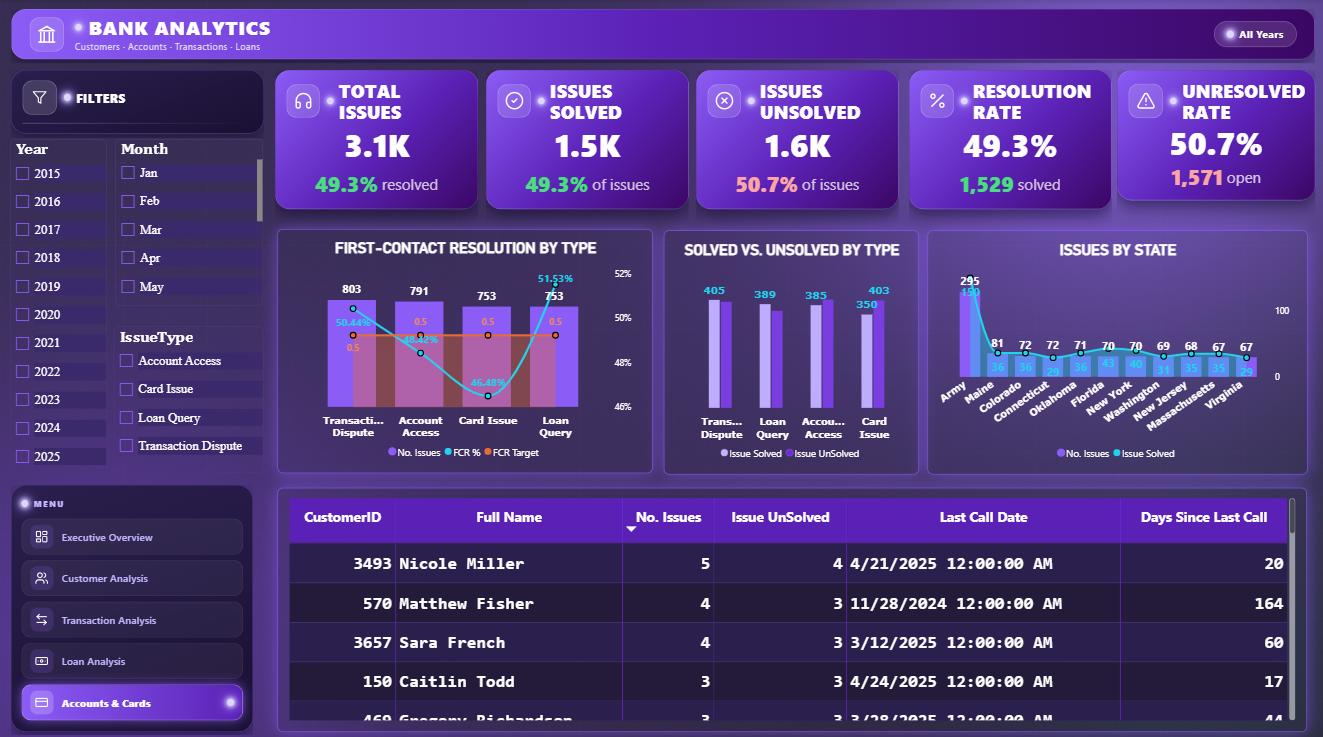

Layout of this report page (visuals, bound fields, positions):
{"tool":"powerbi","page":{"name":"Accounts & Cards","canvas":[1920,1080],"ordinal":5},"visuals":[{"type":"htmlContent443BE3AD55E043BF878BED274D3A6855","fields":{"content":["HTML.Header Bank Analytics"]},"box":[0,0,1920,108.2],"z":0},{"type":"htmlContent443BE3AD55E043BF878BED274D3A6855","fields":{"content":["HTML.Panel Filters"]},"box":[0,88.7,398.1,127.4],"z":1000},{"type":"htmlContent443BE3AD55E043BF878BED274D3A6855","fields":{"content":["HTML.Nav Menu 5"]},"box":[0,688.7,382.2,391.3],"z":2000},{"type":"slicer","fields":{"Values":["Calender.Year"]},"box":[15.2,202.8,140.3,485.1],"z":3000},{"type":"actionButton","box":[34.9,802.9,320,62.1],"z":4000},{"type":"actionButton","box":[34.9,754.4,320,48.5],"z":5000},{"type":"actionButton","box":[34.9,865,320,58.2],"z":6000},{"type":"actionButton","box":[31,923.2,323.9,62.1],"z":7000},{"type":"actionButton","box":[34.9,985.2,320,71.8],"z":8000},{"type":"slicer","fields":{"Values":["Calender.Month"]},"box":[166.7,203.2,214.6,242],"z":9000},{"type":"slicer","fields":{"Values":["SupportCalls.IssueType"]},"box":[164.4,474.9,216.9,212.3],"z":10000},{"type":"htmlContent443BE3AD55E043BF878BED274D3A6855","fields":{"content":["HTML 4.Card No Issues"]},"box":[382.2,88.7,325.3,259.3],"z":11000},{"type":"htmlContent443BE3AD55E043BF878BED274D3A6855","fields":{"content":["HTML 4.Card Issue Solved"]},"box":[687,88.7,325,259.3],"z":12000},{"type":"htmlContent443BE3AD55E043BF878BED274D3A6855","fields":{"content":["HTML 4.Card Issue UnSolved"]},"box":[991.8,88.7,325,259.3],"z":13000},{"type":"htmlContent443BE3AD55E043BF878BED274D3A6855","fields":{"content":["HTML 4.Card Solved Pct"]},"box":[1299,88.7,325,259.3],"z":14000},{"type":"htmlContent443BE3AD55E043BF878BED274D3A6855","fields":{"content":["HTML 4.Card UnSolved Pct"]},"box":[1601,88.7,319,259],"z":15000},{"type":"clusteredColumnChart","title":"SOLVED VS. UNSOLVED BY TYPE","fields":{"Category":["SupportCalls.IssueType"],"Y":["Calc Customer Service.Issue Solved","Calc Customer Service.Issue UnSolved"]},"box":[961.1,335.6,369.8,353.9],"z":16000},{"type":"lineClusteredColumnComboChart","title":"ISSUES BY STATE","fields":{"Category":["customers.State"],"Y":["Calc Customer Service.No. Issues"],"Y2":["Calc Customer Service.Issue Solved"]},"box":[1342.4,335.6,550.2,353.9],"z":17000},{"type":"lineClusteredColumnComboChart","title":"FIRST-CONTACT RESOLUTION BY TYPE","fields":{"Category":["SupportCalls.IssueType"],"Y":["Calc Customer Service.No. Issues"],"Y2":["Calc Customer Service.FCR %","Calc Customer Service.FCR Target"]},"box":[401.8,333.3,543.4,353.9],"z":18000},{"type":"tableEx","fields":{"Values":["SupportCalls.CustomerID","customers.Full Name","Calc Customer Service.No. Issues","Calc Customer Service.Issue UnSolved","Calc Customer Service.Last Call Date","Calc Customer Service.Days Since Last Call"]},"box":[401.8,707.7,1490.8,353.9],"z":19000}]}

Visuals, with their boxes in screenshot pixels (x1, y1, x2, y2), scaled from the page's 1920x1080 canvas onto the 1323x737 screenshot:
htmlContent443BE3AD55E043BF878BED274D3A6855 - HTML.Header Bank Analytics: x1=0 y1=0 x2=1322 y2=74
htmlContent443BE3AD55E043BF878BED274D3A6855 - HTML.Panel Filters: x1=0 y1=61 x2=274 y2=147
htmlContent443BE3AD55E043BF878BED274D3A6855 - HTML.Nav Menu 5: x1=0 y1=470 x2=263 y2=736
slicer - Calender.Year: x1=10 y1=138 x2=107 y2=469
actionButton: x1=24 y1=548 x2=245 y2=590
actionButton: x1=24 y1=515 x2=245 y2=548
actionButton: x1=24 y1=590 x2=245 y2=630
actionButton: x1=21 y1=630 x2=245 y2=672
actionButton: x1=24 y1=672 x2=245 y2=721
slicer - Calender.Month: x1=115 y1=139 x2=263 y2=304
slicer - SupportCalls.IssueType: x1=113 y1=324 x2=263 y2=469
htmlContent443BE3AD55E043BF878BED274D3A6855 - HTML 4.Card No Issues: x1=263 y1=61 x2=488 y2=237
htmlContent443BE3AD55E043BF878BED274D3A6855 - HTML 4.Card Issue Solved: x1=473 y1=61 x2=697 y2=237
htmlContent443BE3AD55E043BF878BED274D3A6855 - HTML 4.Card Issue UnSolved: x1=683 y1=61 x2=907 y2=237
htmlContent443BE3AD55E043BF878BED274D3A6855 - HTML 4.Card Solved Pct: x1=895 y1=61 x2=1119 y2=237
htmlContent443BE3AD55E043BF878BED274D3A6855 - HTML 4.Card UnSolved Pct: x1=1103 y1=61 x2=1322 y2=237
"SOLVED VS. UNSOLVED BY TYPE" clusteredColumnChart: x1=662 y1=229 x2=917 y2=471
"ISSUES BY STATE" lineClusteredColumnComboChart: x1=925 y1=229 x2=1304 y2=471
"FIRST-CONTACT RESOLUTION BY TYPE" lineClusteredColumnComboChart: x1=277 y1=227 x2=651 y2=469
tableEx - SupportCalls.CustomerID x customers.Full Name: x1=277 y1=483 x2=1304 y2=724
